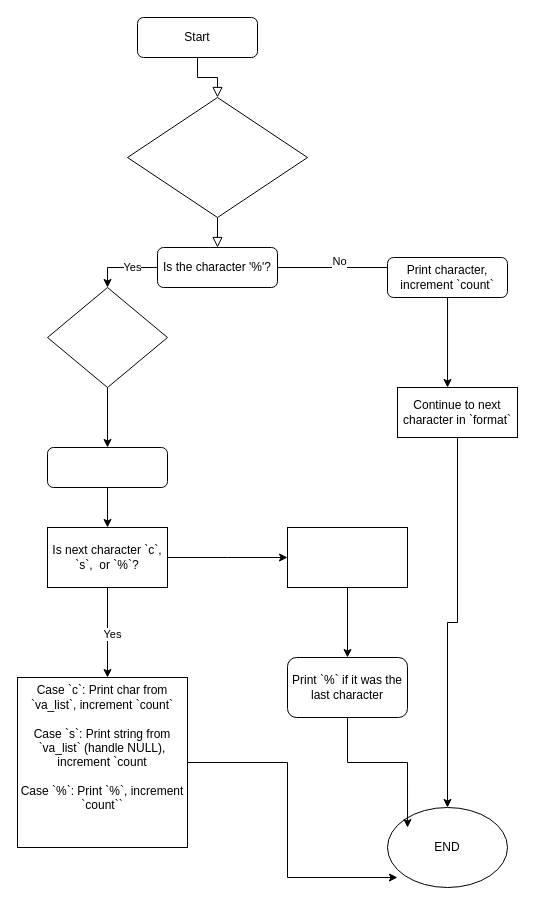
Image size: 535x905. Some labels were removed from this diagram. The shapes that lost their labels are listed below. From the top down, each one's centre as x and y in pixels, then its label:
At (217,157): "Initialize `va_list` and `count`".
At (107,337): "Check next character".
At (107,467): "Check next character:".
At (347,557): "End of format string?".
